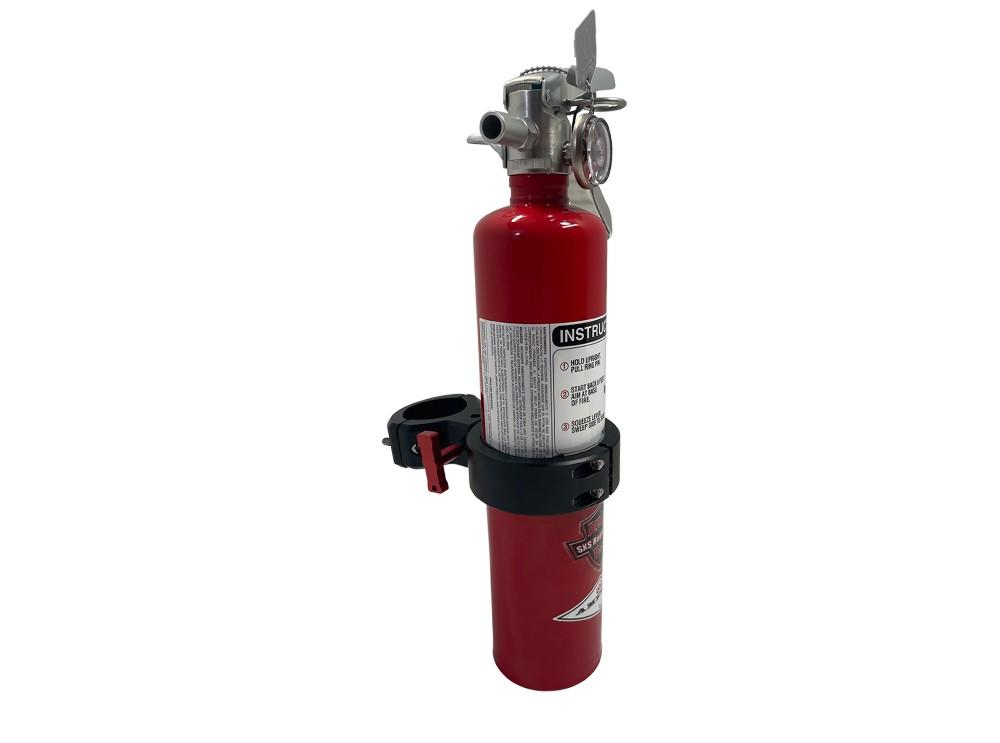Fire Extinguisher: (380, 20, 688, 720)
